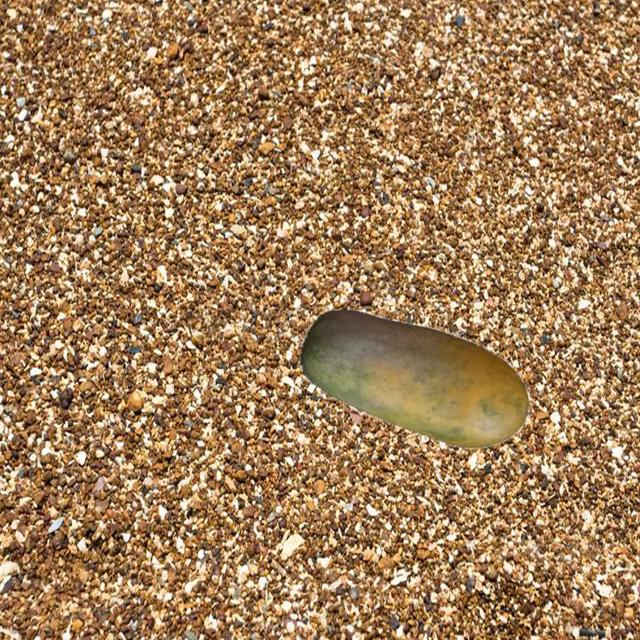Pepaya rippen: (274, 303, 531, 462)
